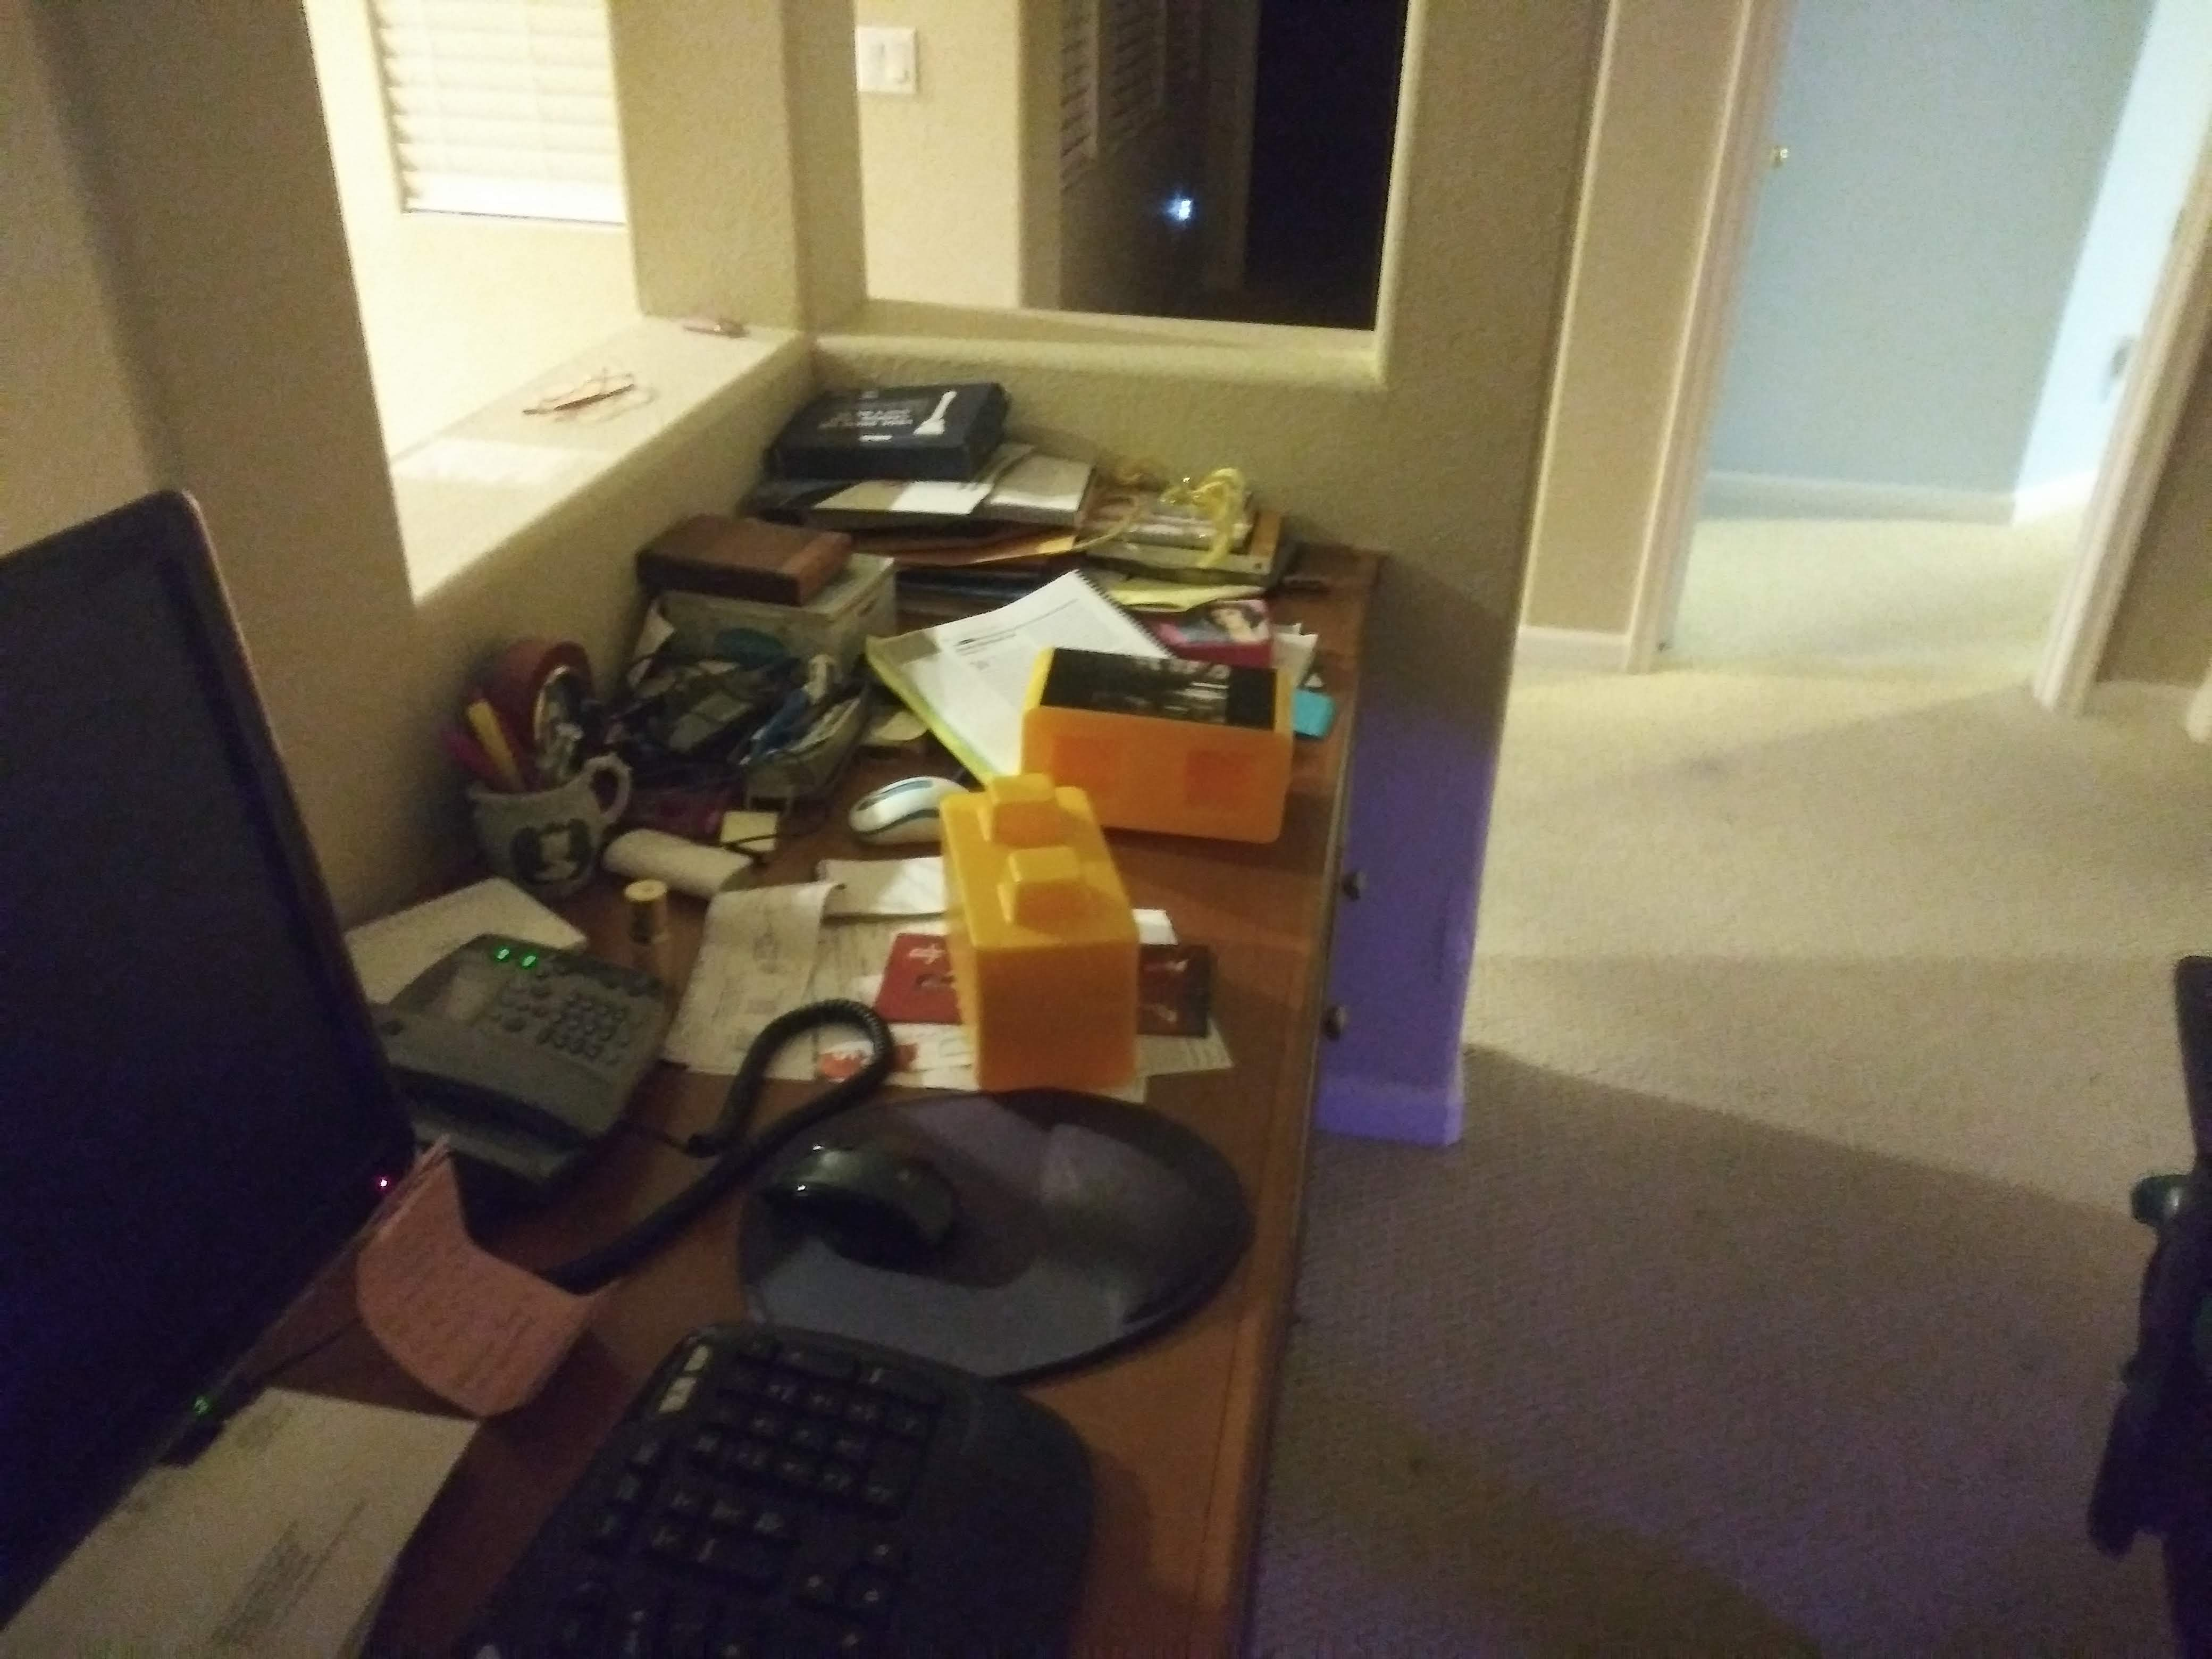skystone: (1033, 640, 1282, 805)
stone: (949, 795, 1136, 1084)
